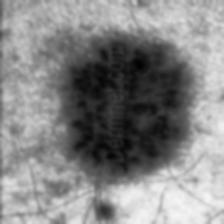Potentially Malignant Skin Tumors: (124, 53, 180, 168), (69, 57, 106, 170)
